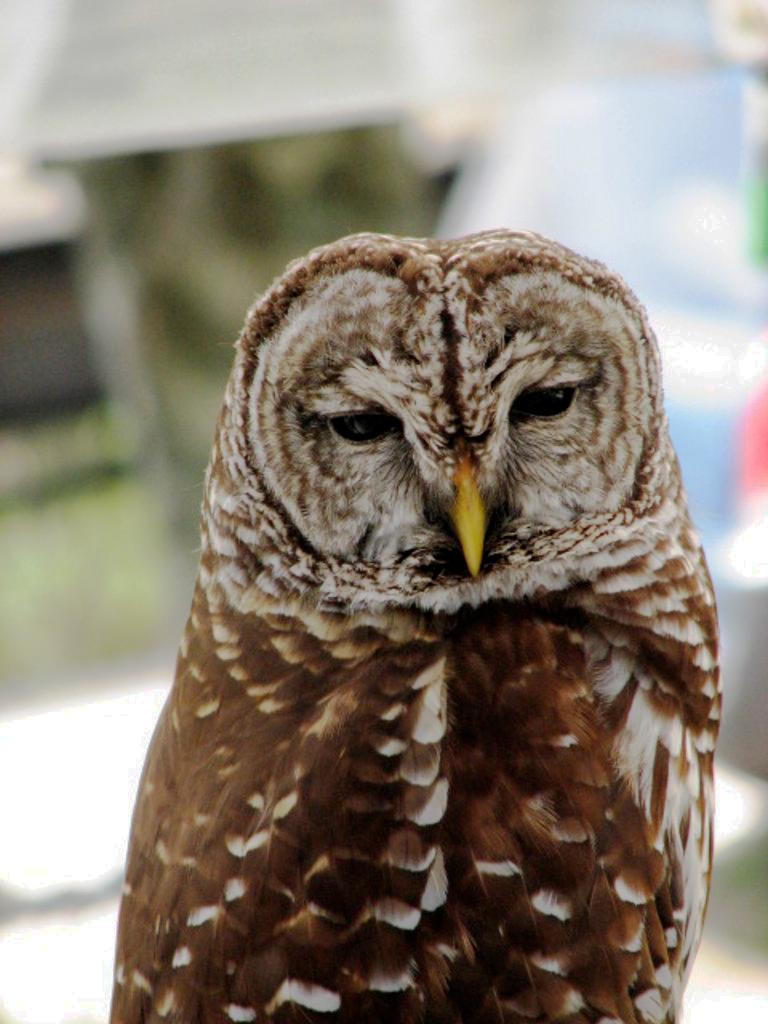Owl: (109, 222, 725, 1020)
